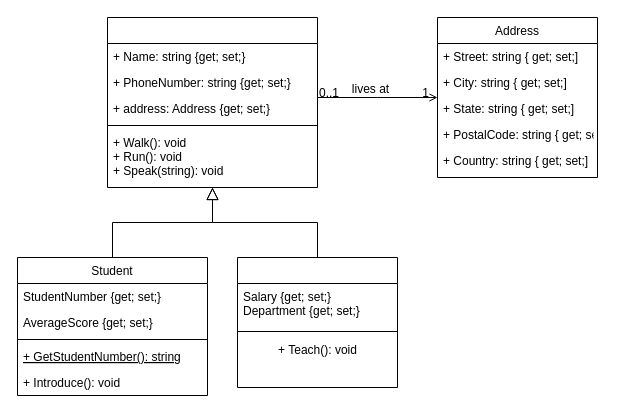
Image size: 625x416. Some labels were removed from this diagram. Here are the shapes that lost their labels. From the top down, the box of each, then its label:
(106, 16, 318, 188): Person
(236, 256, 398, 388): Professor
